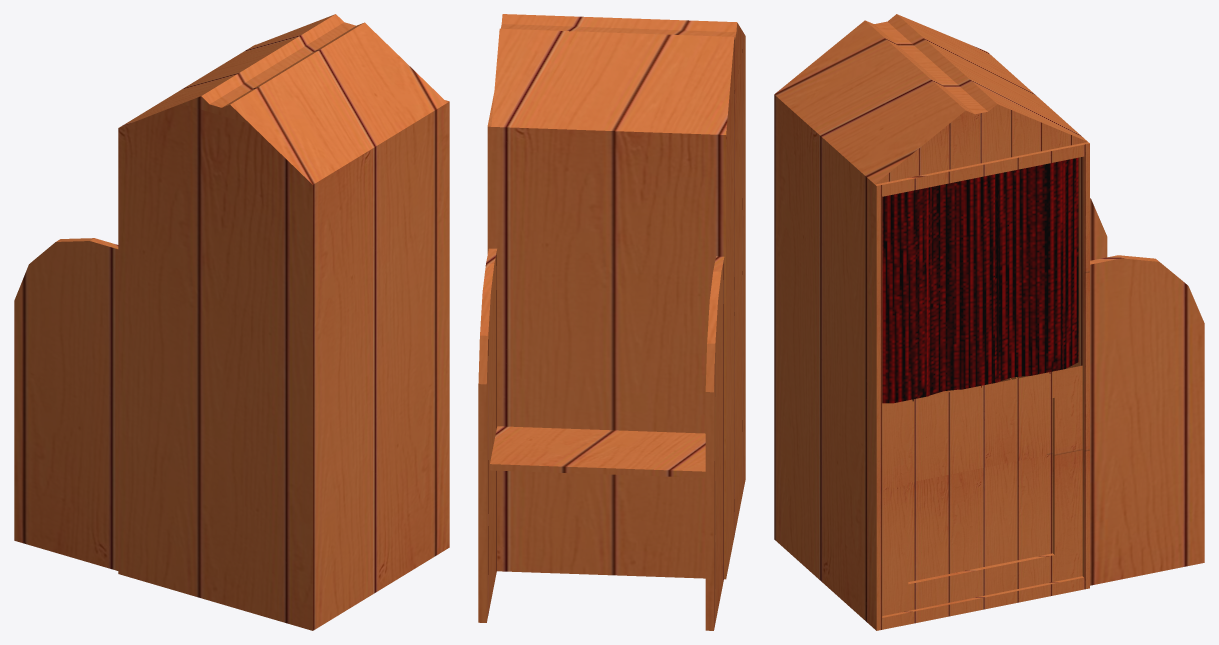
The model's file is confessionario.fbx.
The picture shows the model from 3 angles, left to right: view 1: azimuth 30°, elevation 25°; view 2: azimuth 150°, elevation 25°; view 3: azimuth 270°, elevation 25°; orthographic projection.
Parts seen in each view (by area): view 1: confessionario; view 2: confessionario; view 3: confessionario.
Part boxes in pixels (bbox=[...]): confessionario: bbox=[14, 14, 449, 630]; confessionario: bbox=[478, 14, 745, 630]; confessionario: bbox=[774, 14, 1204, 630].
Size of the model in its own units: 1.17 by 1.74 by 1.36.
2 materials, 2 textured.
